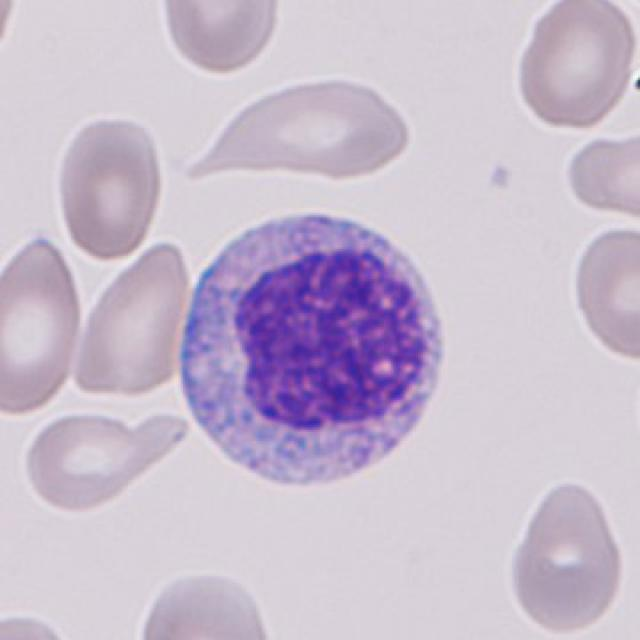Lymphocyte: (165, 194, 459, 505)
RBC: (185, 70, 418, 191), (499, 470, 633, 639), (68, 240, 196, 400), (52, 110, 166, 263), (510, 2, 638, 133), (16, 407, 160, 517), (0, 233, 85, 416), (133, 564, 279, 638), (567, 222, 638, 366), (154, 0, 286, 76), (560, 130, 640, 226), (0, 608, 85, 640)
